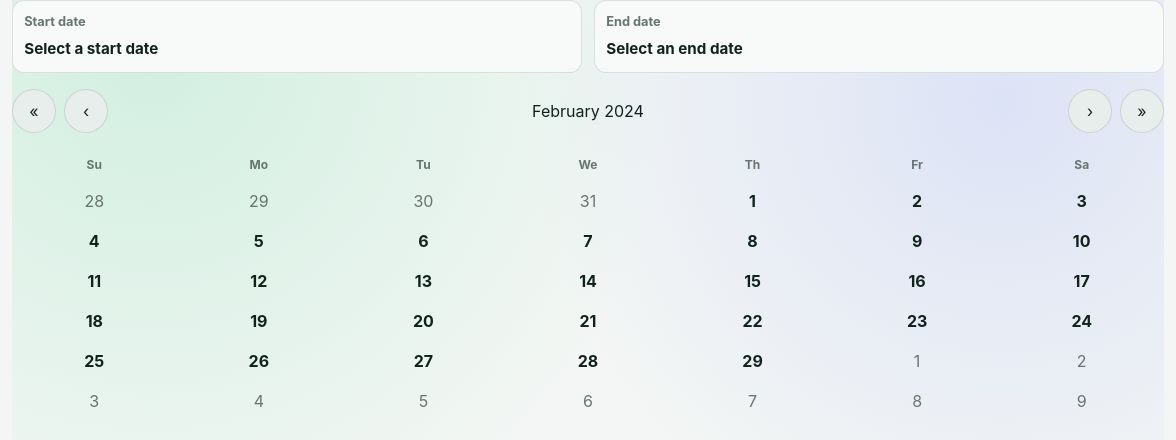
Test: DateRangePicker six-week calendar › keeps February valid across leap-year navigation
The width and height of the screenshot is (1176, 440).
Click the button named "Next year" at (1142, 111), box [1120,89,1164,133]
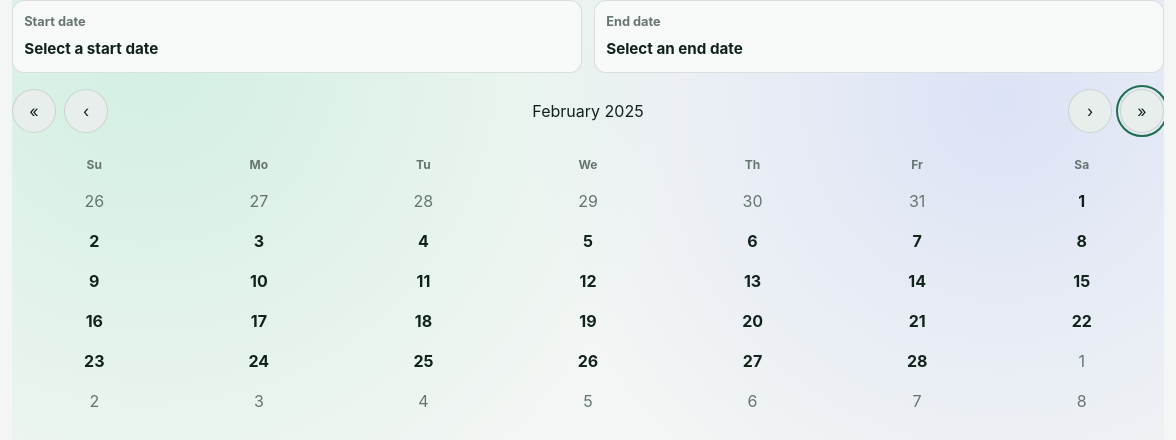
Now the heading "February 2025" is shown, box [532,101,644,121]
